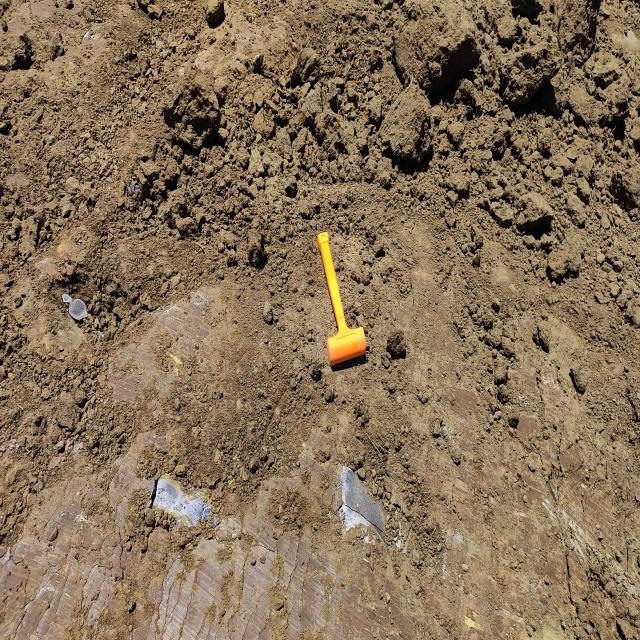Orange_hammer: (318, 230, 368, 367)
